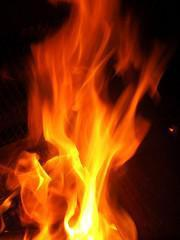fire: (3, 3, 162, 238)
